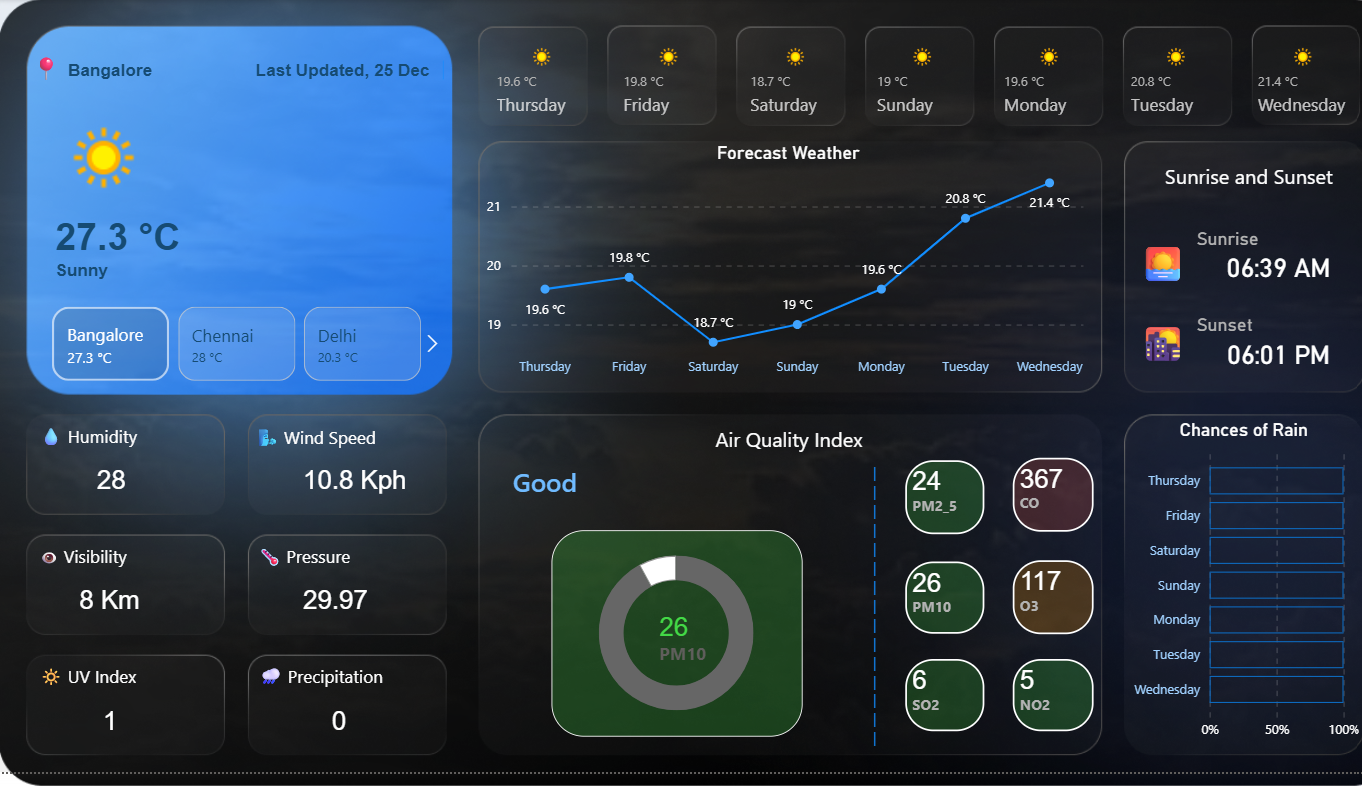

This screenshot's page, from the dashboard's own definition file:
{"tool":"powerbi","page":{"name":"Page 1","canvas":[1280,720],"ordinal":0},"visuals":[{"type":"donutChart","fields":{"Y":["_measures.max_value","Sum(current.current.air_quality.pm10)"]},"box":[523.3,494.2,233.7,191.9],"z":0},{"type":"advancedSlicerVisual","fields":{"Values":["locations.location.name"]},"box":[33.7,281.4,394.2,79.1],"z":1000},{"type":"multiRowCard","fields":{"Values":["_measures.curr_temp_c"]},"box":[57,197.7,300,55.8],"z":2000},{"type":"multiRowCard","fields":{"Values":["current.current.condition.text"]},"box":[56.6,238.1,139.1,29.5],"z":3000},{"type":"multiRowCard","fields":{"Values":["locations.location.name"]},"box":[68.6,52.3,88.4,29.1],"z":4000},{"type":"multiRowCard","fields":{"Values":["_measures.last_updated_date_crr"]},"box":[243,52.3,184.9,29.1],"z":5000},{"type":"textbox","box":[33.7,44.2,45.3,46.5],"z":6000},{"type":"textbox","box":[41.9,390.7,140.7,38.4],"z":7000},{"type":"textbox","box":[246.5,614,140.7,38.4],"z":8000},{"type":"textbox","box":[245.3,502.3,140.7,38.4],"z":9000},{"type":"textbox","box":[41.9,614,140.7,38.4],"z":10000},{"type":"textbox","box":[41.9,502.3,140.7,38.4],"z":11000},{"type":"textbox","box":[243,391.9,140.7,38.4],"z":12000},{"type":"multiRowCard","fields":{"Values":["Sum(current.current.humidity)"]},"box":[95.3,429.1,100,66.3],"z":13000},{"type":"multiRowCard","fields":{"Values":["_measures.wind_speed"]},"box":[287.2,429.1,140.7,65.1],"z":14000},{"type":"multiRowCard","fields":{"Values":["_measures.visibility"]},"box":[79.1,540.7,147.7,66.3],"z":15000},{"type":"multiRowCard","fields":{"Values":["Sum(current.current.pressure_in)"]},"box":[287.2,540.7,100,66.3],"z":16000},{"type":"multiRowCard","fields":{"Values":["Sum(current.current.precip_in)"]},"box":[314,653.5,100,66.3],"z":17000},{"type":"multiRowCard","fields":{"Values":["Sum(current.current.uv)"]},"box":[101.2,653.5,100,66.3],"z":18000},{"type":"cardVisual","fields":{"Data":["Min(current.current.condition.icon)"]},"box":[28.3,89.6,173.3,116.7],"z":19000},{"type":"advancedSlicerVisual","fields":{"Values":["forecast_day.day_name"]},"box":[458.1,19.8,822.1,102.3],"z":20000},{"type":"lineChart","title":"Forecast Weather","fields":{"Y":["Sum(forecast_day.forecast.forecastday.day.avgtemp_c)"],"Category":["forecast_day.day_name"]},"box":[458.1,132.6,570.9,227.9],"z":21000},{"type":"textbox","box":[1064,147.7,216.3,58.1],"z":22000},{"type":"card","title":"Sunrise","fields":{"Values":["Min(forecast_day.sunrise)"]},"box":[1118.6,212.8,161.6,54.7],"z":23000},{"type":"card","title":" Sunset","fields":{"Values":["Min(forecast_day.sunset)"]},"box":[1118.6,293,161.6,54.7],"z":24000},{"type":"textbox","box":[1065.1,293,53.5,55.8],"z":25000},{"type":"textbox","box":[1065.1,218.6,70.9,67.4],"z":26000},{"type":"hundredPercentStackedBarChart","title":"Chances of Rain","fields":{"Category":["forecast_day.day_name"],"Y":["Sum(forecast_day.forecast.forecastday.day.daily_chance_of_rain)","_measures.left_value_rain"]},"box":[1054.7,390.7,225.6,307],"z":27000},{"type":"textbox","box":[646.5,391.9,195.3,40.7],"z":28000},{"type":"multiRowCard","fields":{"Values":["Sum(current.current.air_quality.co)"]},"box":[952.3,426.7,75.6,68.6],"z":29000},{"type":"multiRowCard","fields":{"Values":["Sum(current.current.air_quality.o3)"]},"box":[952.3,522.1,75.6,68.6],"z":30000},{"type":"multiRowCard","fields":{"Values":["Sum(current.current.air_quality.no2)"]},"box":[952.3,614,75.6,67.4],"z":31000},{"type":"multiRowCard","fields":{"Values":["Sum(current.current.air_quality.pm2_5)"]},"box":[852.3,429.1,73.3,68.6],"z":32000},{"type":"multiRowCard","fields":{"Values":["Sum(current.current.air_quality.pm10)"]},"box":[852.3,523.3,73.3,67.4],"z":33000},{"type":"multiRowCard","fields":{"Values":["Sum(current.current.air_quality.so2)"]},"box":[852.3,614,73.3,67.4],"z":34000},{"type":"textbox","box":[817.4,426.7,34.9,293],"z":35000},{"type":"multiRowCard","fields":{"Values":["Sum(current.current.air_quality.pm10)"]},"box":[618.6,566.3,73.3,67.4],"z":36000},{"type":"cardVisual","fields":{"Data":["_measures.air_quality_status"]},"box":[458.1,394.2,298.8,108.1],"z":37001}]}

Visuals, with their boxes in screenshot pixels (x1, y1, x2, y2), scaled from the page's 1280x720 canvas onto the 1362x786 screenshot:
donutChart - _measures.max_value x Sum(current.current.air_quality.pm10): {"left": 557, "top": 540, "right": 805, "bottom": 749}
advancedSlicerVisual - locations.location.name: {"left": 36, "top": 307, "right": 455, "bottom": 394}
multiRowCard - _measures.curr_temp_c: {"left": 61, "top": 216, "right": 380, "bottom": 277}
multiRowCard - current.current.condition.text: {"left": 60, "top": 260, "right": 208, "bottom": 292}
multiRowCard - locations.location.name: {"left": 73, "top": 57, "right": 167, "bottom": 89}
multiRowCard - _measures.last_updated_date_crr: {"left": 259, "top": 57, "right": 455, "bottom": 89}
textbox: {"left": 36, "top": 48, "right": 84, "bottom": 99}
textbox: {"left": 45, "top": 427, "right": 194, "bottom": 468}
textbox: {"left": 262, "top": 670, "right": 412, "bottom": 712}
textbox: {"left": 261, "top": 548, "right": 411, "bottom": 590}
textbox: {"left": 45, "top": 670, "right": 194, "bottom": 712}
textbox: {"left": 45, "top": 548, "right": 194, "bottom": 590}
textbox: {"left": 259, "top": 428, "right": 408, "bottom": 470}
multiRowCard - Sum(current.current.humidity): {"left": 101, "top": 468, "right": 208, "bottom": 541}
multiRowCard - _measures.wind_speed: {"left": 306, "top": 468, "right": 455, "bottom": 540}
multiRowCard - _measures.visibility: {"left": 84, "top": 590, "right": 241, "bottom": 663}
multiRowCard - Sum(current.current.pressure_in): {"left": 306, "top": 590, "right": 412, "bottom": 663}
multiRowCard - Sum(current.current.precip_in): {"left": 334, "top": 713, "right": 441, "bottom": 785}
multiRowCard - Sum(current.current.uv): {"left": 108, "top": 713, "right": 214, "bottom": 785}
cardVisual - Min(current.current.condition.icon): {"left": 30, "top": 98, "right": 215, "bottom": 225}
advancedSlicerVisual - forecast_day.day_name: {"left": 487, "top": 22, "right": 1361, "bottom": 133}
"Forecast Weather" lineChart: {"left": 487, "top": 145, "right": 1095, "bottom": 394}
textbox: {"left": 1132, "top": 161, "right": 1361, "bottom": 225}
"Sunrise" card: {"left": 1190, "top": 232, "right": 1361, "bottom": 292}
" Sunset" card: {"left": 1190, "top": 320, "right": 1361, "bottom": 380}
textbox: {"left": 1133, "top": 320, "right": 1190, "bottom": 381}
textbox: {"left": 1133, "top": 239, "right": 1209, "bottom": 312}
"Chances of Rain" hundredPercentStackedBarChart: {"left": 1122, "top": 427, "right": 1361, "bottom": 762}
textbox: {"left": 688, "top": 428, "right": 896, "bottom": 472}
multiRowCard - Sum(current.current.air_quality.co): {"left": 1013, "top": 466, "right": 1094, "bottom": 541}
multiRowCard - Sum(current.current.air_quality.o3): {"left": 1013, "top": 570, "right": 1094, "bottom": 645}
multiRowCard - Sum(current.current.air_quality.no2): {"left": 1013, "top": 670, "right": 1094, "bottom": 744}
multiRowCard - Sum(current.current.air_quality.pm2_5): {"left": 907, "top": 468, "right": 985, "bottom": 543}
multiRowCard - Sum(current.current.air_quality.pm10): {"left": 907, "top": 571, "right": 985, "bottom": 645}
multiRowCard - Sum(current.current.air_quality.so2): {"left": 907, "top": 670, "right": 985, "bottom": 744}
textbox: {"left": 870, "top": 466, "right": 907, "bottom": 785}
multiRowCard - Sum(current.current.air_quality.pm10): {"left": 658, "top": 618, "right": 736, "bottom": 692}
cardVisual - _measures.air_quality_status: {"left": 487, "top": 430, "right": 805, "bottom": 548}
